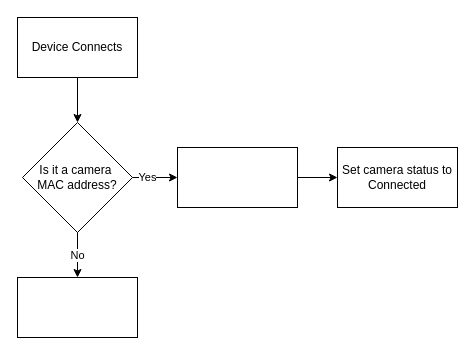
Some shapes in this 475 by 355 pixel diagram are drawn without their labels. The centre of each missing label's shape, as x and y in pixels:
"Do nothing" belongs at (77,307).
"Set IP address in Cameras object" belongs at (237,177).
